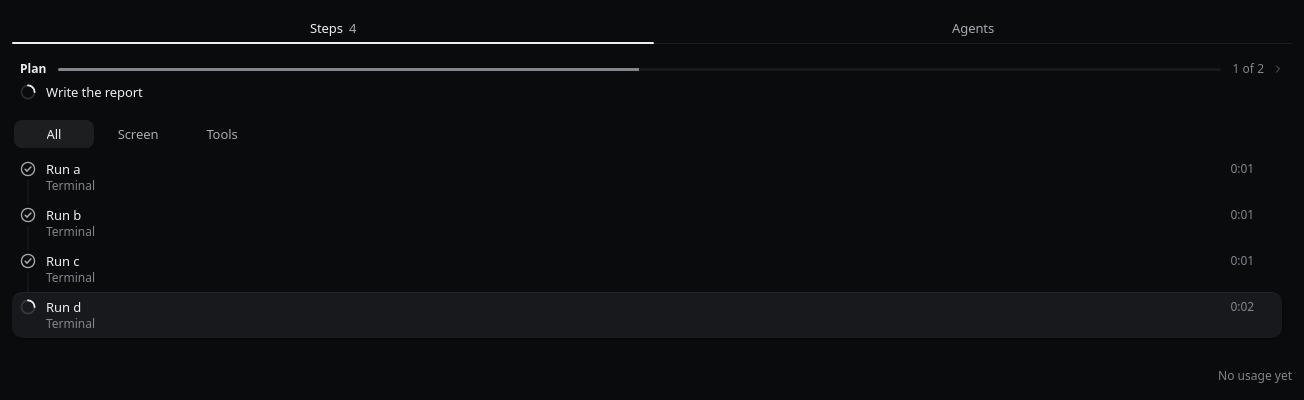
Test case: ActivityRail › lists every step as one flat row in time order, with no folds by plan item
Check: the button "Read the sample data" is not shown
Click the button "Plan 1 of 2 Write the report" at (639, 69), box [12,52,1292,110]
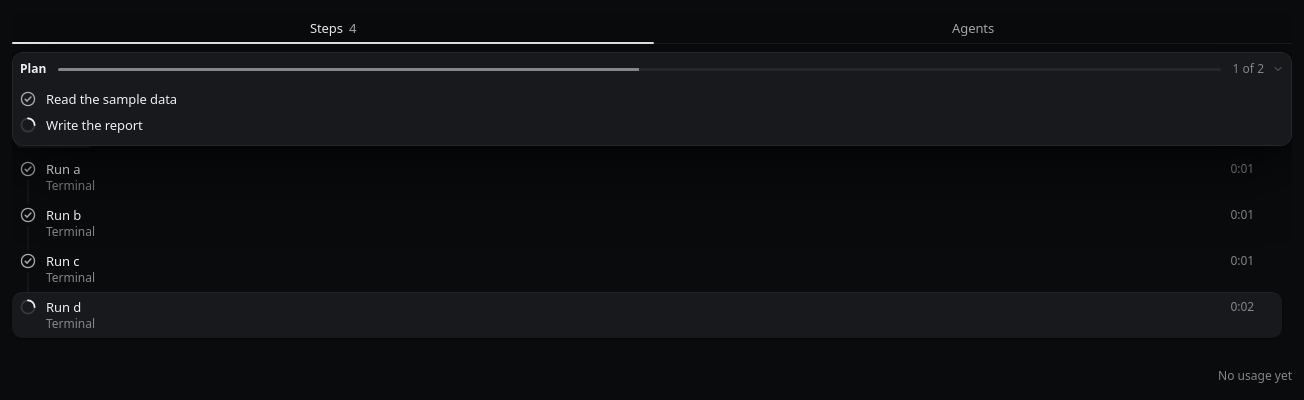
Check: the list named "Task plan" reads "Read the sample data Write the report", box [20,90,177,134]
